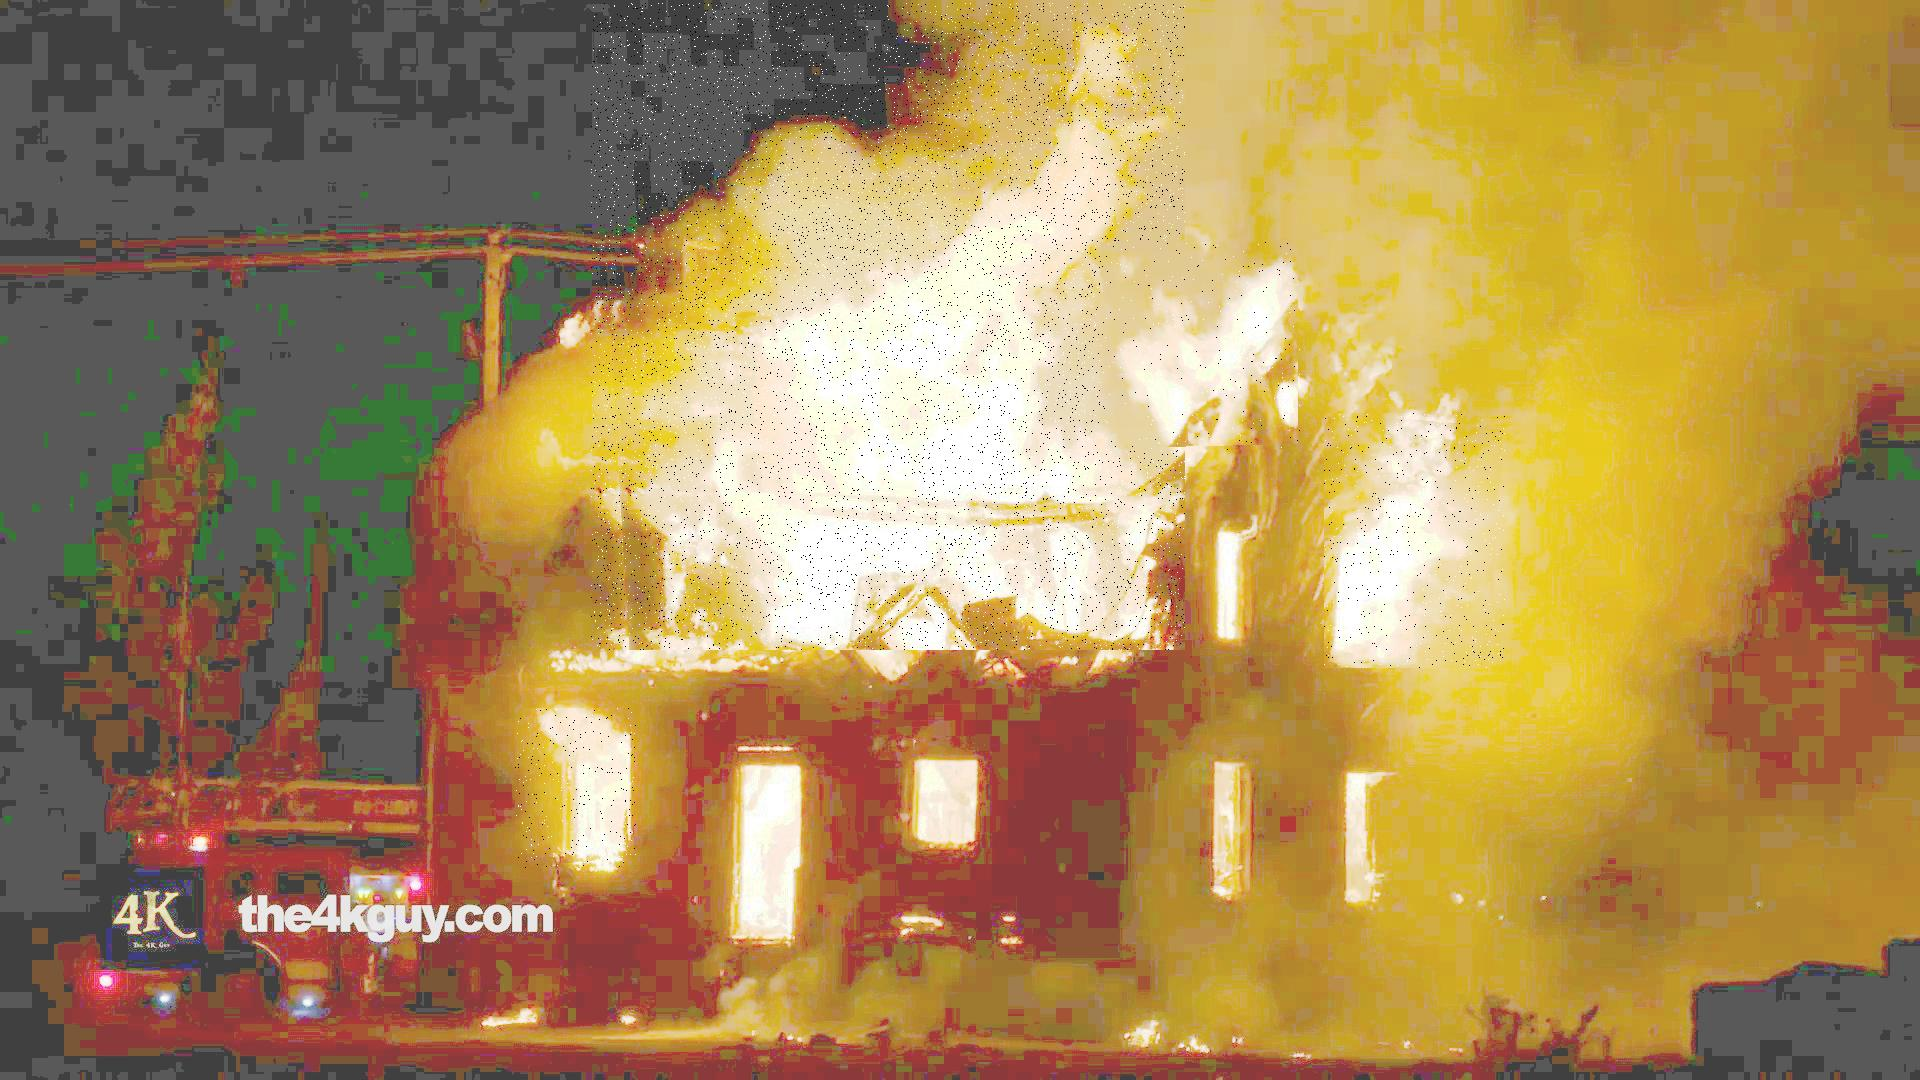fire: (591, 3, 1185, 650), (1325, 413, 1506, 669), (1101, 243, 1300, 451), (516, 708, 637, 868)
